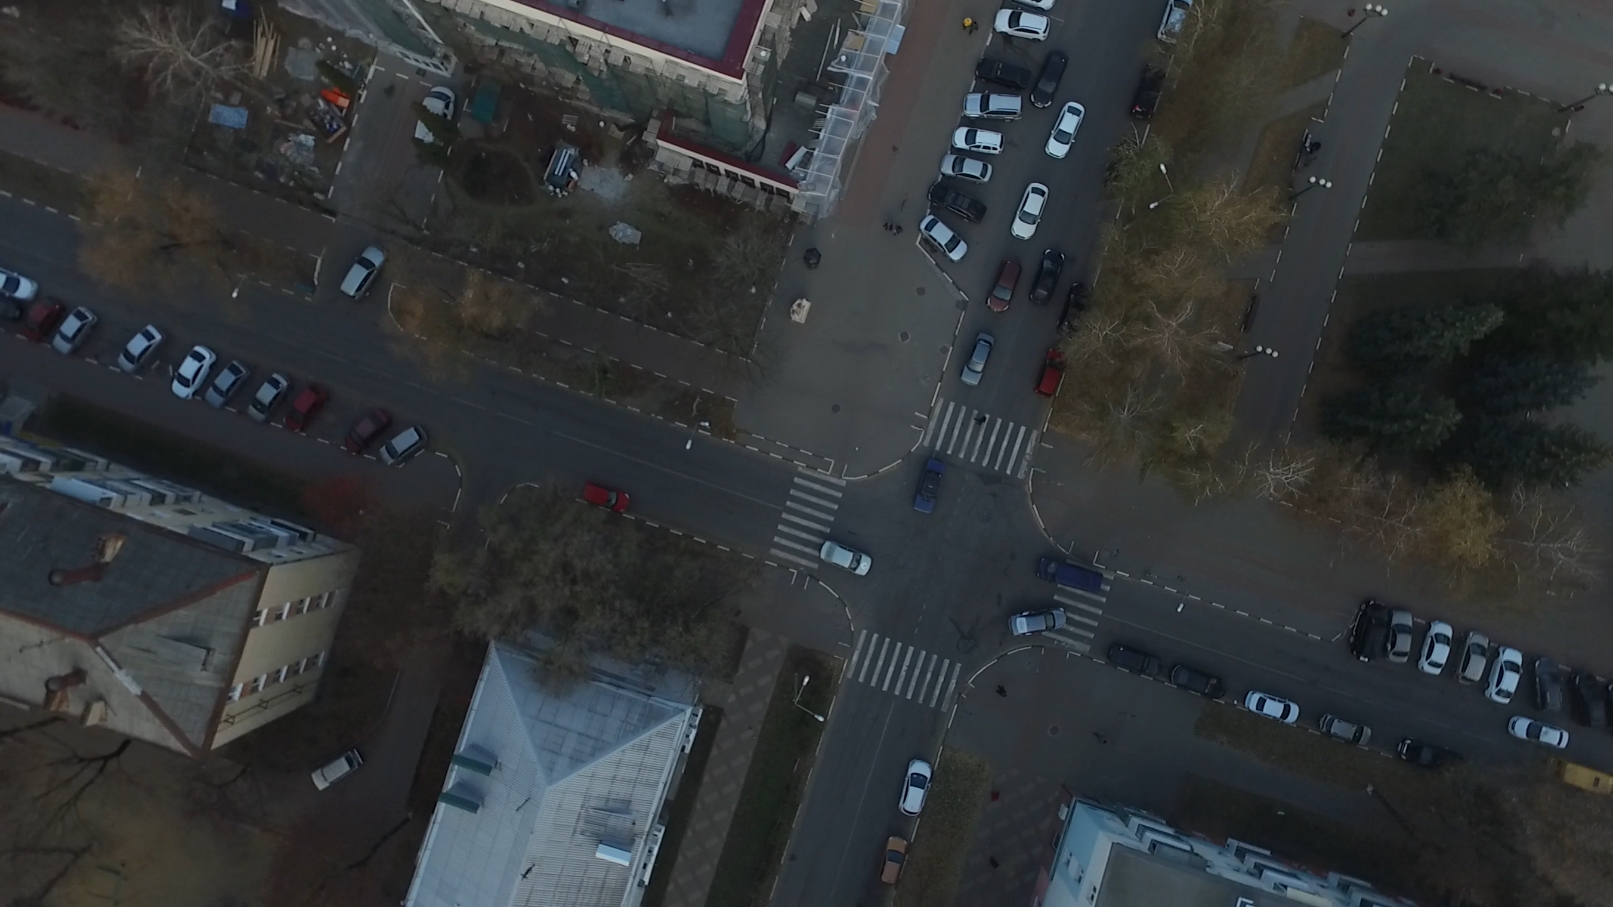car: (405, 84, 464, 145), (1541, 754, 1613, 794), (1344, 600, 1393, 658), (929, 183, 984, 234), (169, 341, 217, 399), (339, 246, 386, 305), (891, 757, 934, 821), (308, 748, 367, 793), (1028, 48, 1072, 107), (114, 323, 165, 374), (1503, 711, 1571, 749), (984, 259, 1027, 317), (53, 305, 102, 355), (1038, 555, 1102, 592), (1129, 62, 1168, 123), (1243, 687, 1301, 728), (958, 332, 1003, 385), (918, 213, 963, 266), (1394, 738, 1467, 770), (1030, 245, 1069, 305), (341, 411, 391, 457), (906, 458, 949, 512), (1046, 102, 1086, 158), (820, 539, 872, 583), (1008, 182, 1047, 239), (247, 372, 289, 424), (1171, 662, 1227, 701), (1052, 282, 1090, 340), (205, 359, 247, 410), (286, 385, 328, 435), (1031, 348, 1069, 402), (962, 91, 1023, 124), (975, 56, 1031, 92), (1108, 645, 1165, 679), (1008, 602, 1069, 635), (1568, 669, 1600, 730), (578, 480, 628, 518), (1490, 648, 1525, 702), (874, 838, 914, 886), (1533, 655, 1562, 720), (1457, 628, 1490, 684), (380, 427, 430, 465), (20, 299, 63, 342), (1319, 713, 1371, 748), (1419, 622, 1453, 674), (993, 9, 1048, 41), (953, 126, 1007, 158), (1385, 606, 1414, 664), (941, 153, 990, 185), (1158, 1, 1191, 48), (1, 266, 42, 303), (1019, 1, 1072, 18)
